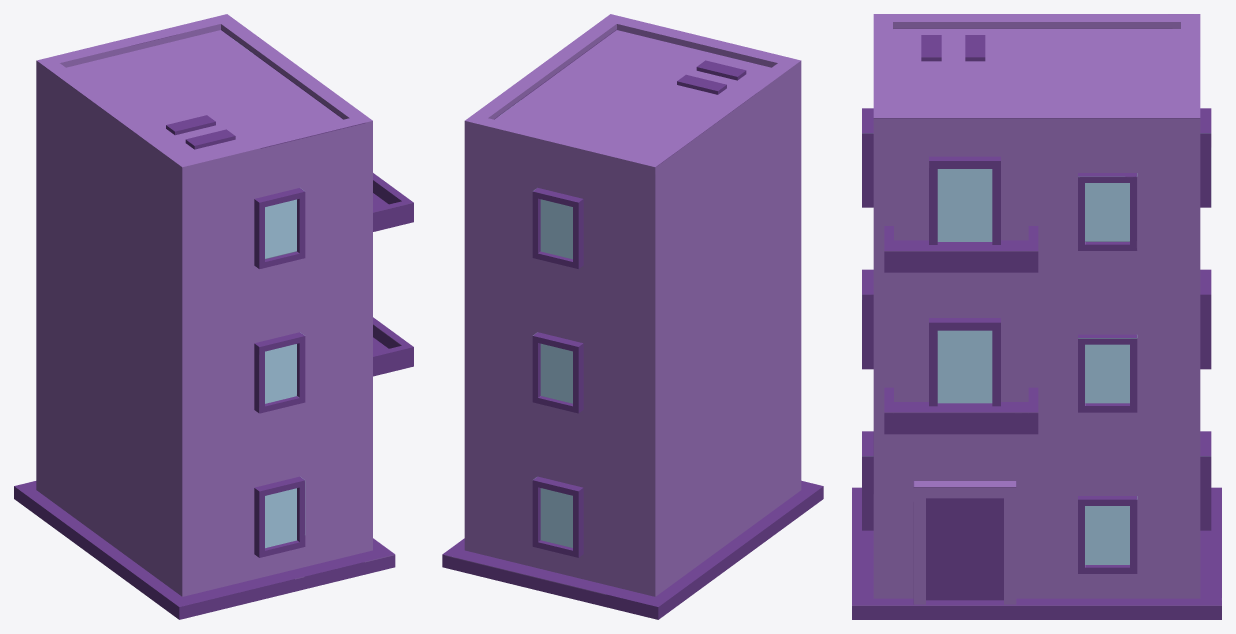
The model's file is apartament_purple.fbx.
The picture shows the model from 3 angles, left to right: view 1: azimuth 30°, elevation 25°; view 2: azimuth 150°, elevation 25°; view 3: azimuth 270°, elevation 25°; orthographic projection. The views are drawn at different scales.
Visible parts, largest first — view 1: apartament; view 2: apartament; view 3: apartament.
Boxes of the visible parts, bbox=[...] form: apartament: bbox=[14, 14, 413, 619]; apartament: bbox=[442, 14, 823, 619]; apartament: bbox=[852, 14, 1221, 619].
Size of the model in its own units: 629 by 1068 by 723.
1 material, 1 textured.
